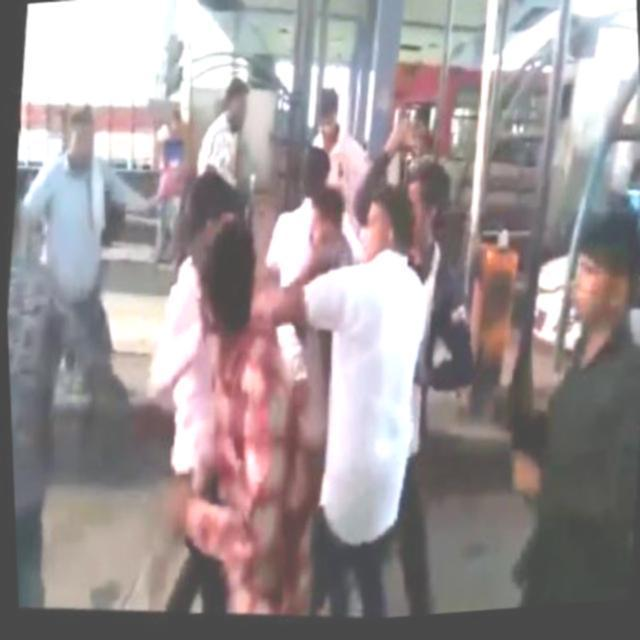fight: (107, 152, 340, 601)
